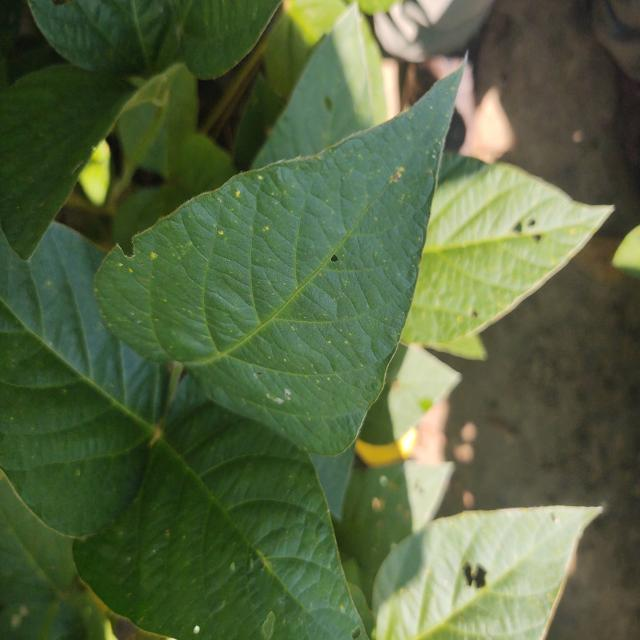Soybean: (0, 0, 632, 640)
downey_mildew: (72, 448, 198, 633), (1, 436, 146, 536), (173, 406, 329, 496), (0, 359, 147, 450), (193, 184, 271, 355), (494, 220, 613, 325), (149, 203, 227, 363), (156, 304, 319, 378), (392, 52, 468, 198), (222, 374, 353, 453), (196, 455, 326, 534), (250, 177, 311, 325), (111, 63, 183, 177), (430, 174, 539, 249), (175, 1, 284, 76), (440, 239, 553, 309), (87, 282, 146, 414), (214, 498, 325, 568), (328, 2, 380, 144), (109, 172, 190, 251), (493, 191, 602, 245), (162, 129, 235, 209), (448, 586, 556, 639), (489, 540, 571, 606), (229, 74, 284, 172), (2, 571, 81, 638), (260, 9, 312, 107), (230, 353, 313, 414), (247, 545, 304, 631), (298, 243, 347, 340), (0, 328, 77, 388), (116, 266, 175, 337), (403, 459, 457, 535), (199, 211, 278, 262), (407, 297, 499, 340), (362, 337, 400, 420), (286, 0, 350, 48), (126, 1, 167, 74), (448, 542, 477, 629), (420, 330, 490, 362), (296, 602, 355, 638), (416, 566, 438, 636), (446, 616, 505, 640), (400, 2, 431, 36), (353, 0, 418, 16), (109, 240, 137, 267), (245, 547, 265, 575), (261, 610, 275, 638), (419, 397, 433, 412), (70, 161, 83, 175), (411, 262, 418, 274), (550, 512, 557, 523), (471, 310, 478, 319), (426, 567, 432, 575), (396, 333, 401, 340), (130, 311, 135, 316), (429, 105, 434, 110), (9, 416, 14, 421), (118, 262, 123, 267)
